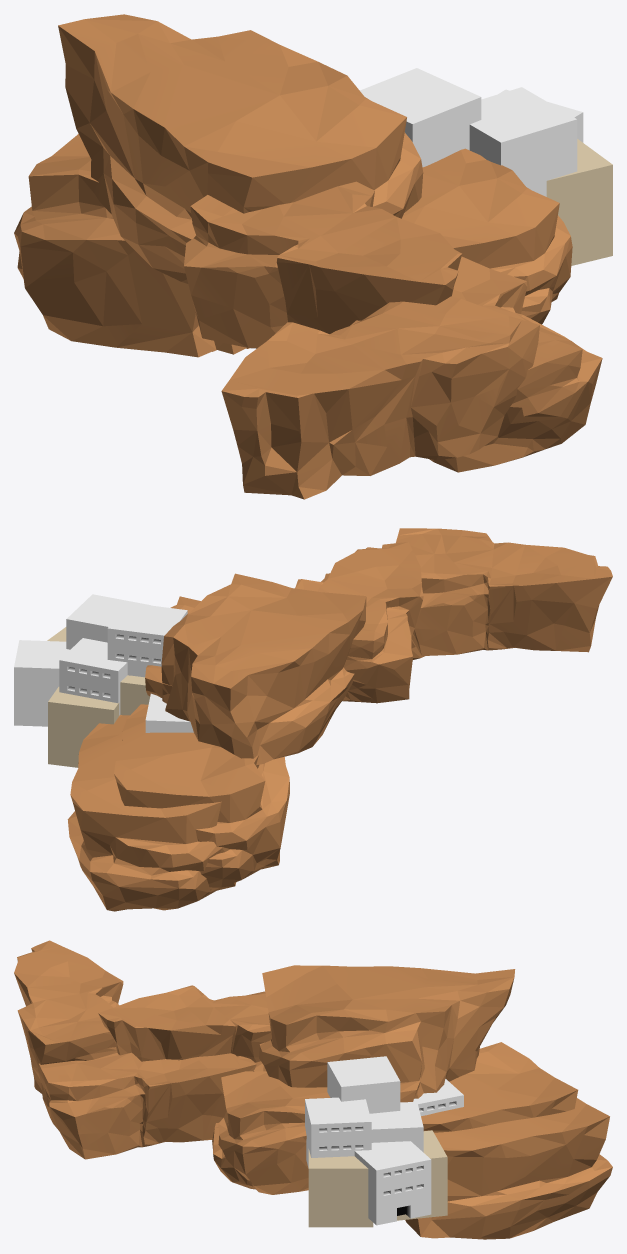
File: enviornmentSet01.fbx
3 renders of one model, top to bottom at view 1: azimuth 30°, elevation 25°; view 2: azimuth 150°, elevation 25°; view 3: azimuth 270°, elevation 25°, orthographic. The views are drawn at different scales.
Visible parts, largest first — view 1: rock0 (1), rock1 (2), rock1 (1), rock0 (2), rock0, rock1, house (2), house (3), houseblock; view 2: rock0 (1), rock1 (2), rock0 (3), rock0 (2), rock1 (1), house (3), house, houseblock, house (1), house (2), house (4), houseblock (1) (+1 smaller); view 3: rock0 (1), rock0 (3), rock1, rock0, rock1 (2), rock1 (1), rock0 (2), houseblock (×2), house, house (2), house (3), house (1) (+1 smaller).
Boxes of the visible parts, x1,y1,x2,y2 form: rock0 (1): (58, 14, 423, 283); rock1 (2): (221, 296, 539, 499); rock1 (1): (184, 181, 461, 348); rock0 (2): (14, 134, 246, 357); rock0: (402, 148, 572, 324); rock1: (429, 256, 602, 472); house (2): (469, 87, 577, 196); house (3): (360, 68, 481, 167); houseblock: (546, 139, 612, 265); rock0 (1): (161, 573, 366, 765); rock1 (2): (396, 528, 612, 655); rock0 (3): (67, 715, 236, 911); rock0 (2): (114, 704, 289, 888); rock1 (1): (317, 542, 423, 703); house (3): (107, 602, 187, 677); house: (14, 640, 69, 726); houseblock: (48, 687, 119, 767); house (1): (59, 638, 127, 715); house (2): (66, 594, 150, 649); house (4): (145, 693, 193, 732); houseblock (1): (120, 675, 149, 715); rock0 (1): (253, 965, 515, 1098); rock0 (3): (405, 1098, 612, 1239); rock1: (37, 1052, 256, 1159); rock0: (212, 1071, 420, 1194); rock1 (2): (14, 940, 123, 1093); rock1 (1): (98, 985, 271, 1062); rock0 (2): (421, 1042, 578, 1132); houseblock (×2): (308, 1130, 447, 1227); house: (354, 1141, 431, 1225); house (2): (305, 1097, 371, 1168); house (3): (327, 1056, 400, 1113); house (1): (369, 1101, 423, 1152).
Bounding box in the file's own units: 7.06 × 3.5 × 9.25.
